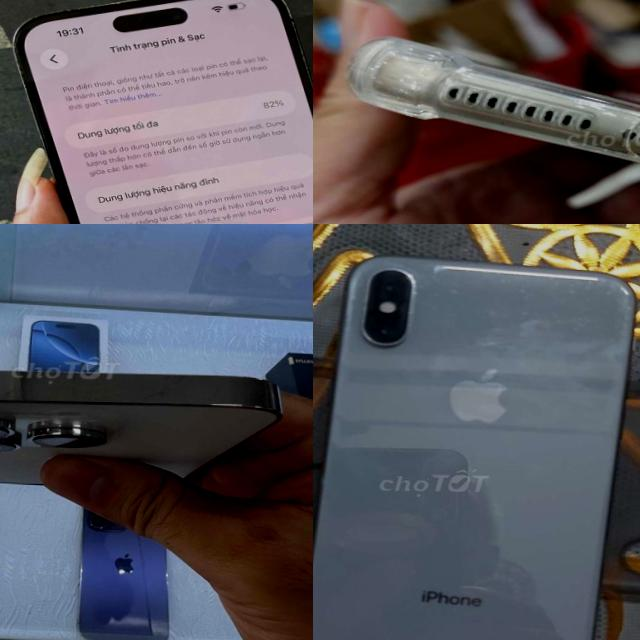scratch: (291, 17, 313, 155), (4, 42, 36, 116), (481, 261, 534, 302), (23, 0, 124, 19), (418, 276, 479, 307), (546, 274, 588, 306), (592, 272, 619, 308), (488, 301, 506, 325), (521, 307, 543, 326)
